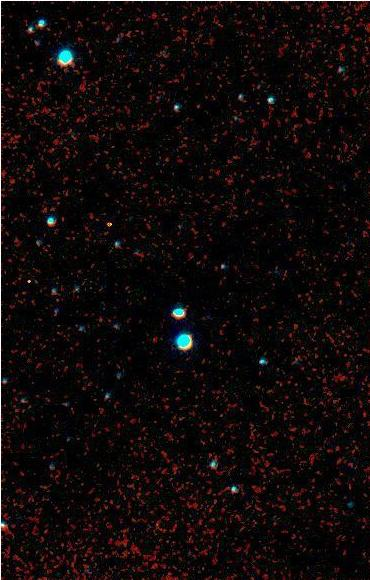star: (15, 264, 45, 294)
